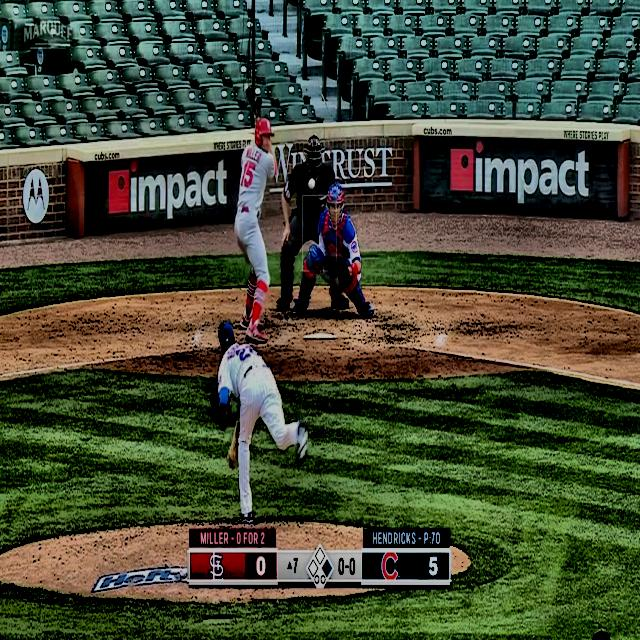baseball: (308, 177, 316, 191)
